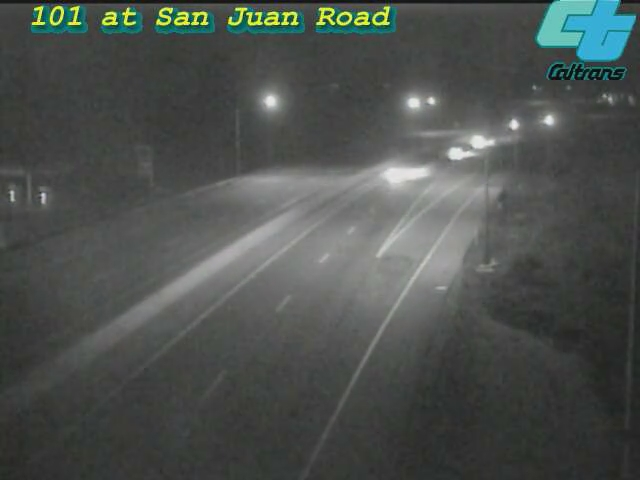vehicle: (354, 134, 434, 214), (490, 99, 540, 149), (522, 94, 572, 144), (455, 116, 505, 166), (431, 128, 481, 178)
